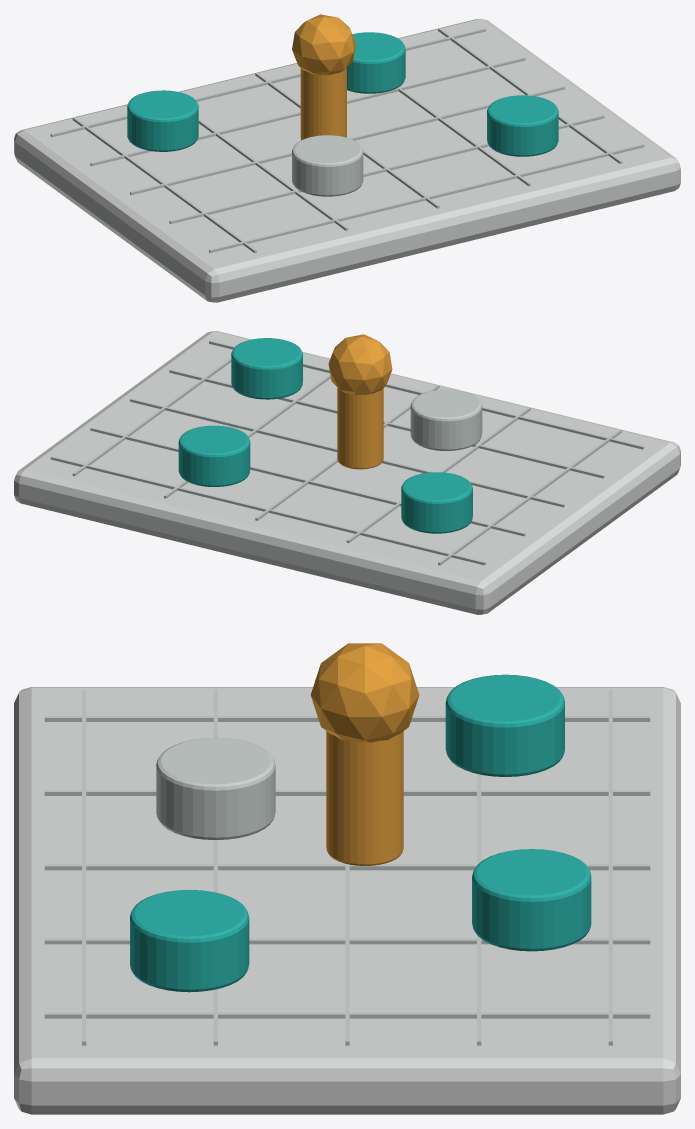
Rendered from spatial-allocation-table.glb.
3 renders of one model, top to bottom at view 1: azimuth 30°, elevation 25°; view 2: azimuth 150°, elevation 25°; view 3: azimuth 270°, elevation 25°, orthographic. The views are drawn at different scales.
Parts seen in each view (by area): view 1: Allocation table, Plot 1, Plot 2, Plot 4, Plot 3, Marker head, Allocation marker, Grid Y, Grid Y.002, Grid Y.003, Grid Y.001, Grid Y.004 (+5 smaller); view 2: Allocation table, Plot 3, Plot 4, Plot 1, Plot 2, Allocation marker, Marker head, Grid Y.004, Grid Y.002, Grid Y.003, Grid Y.001, Grid Y (+5 smaller); view 3: Allocation table, Plot 3, Plot 4, Plot 1, Plot 2, Allocation marker, Marker head, Grid X.004, Grid X.002, Grid X.003, Grid X.001, Grid X (+5 smaller).
Part boxes in pixels (left/top/right/bottom): Allocation table: left=14, top=18, right=680, bottom=302; Plot 1: left=127, top=90, right=198, bottom=151; Plot 2: left=487, top=95, right=558, bottom=156; Plot 4: left=292, top=135, right=363, bottom=196; Plot 3: left=347, top=32, right=405, bottom=93; Marker head: left=292, top=14, right=355, bottom=75; Allocation marker: left=300, top=68, right=346, bottom=140; Grid Y: left=209, top=144, right=644, bottom=252; Grid Y.002: left=130, top=86, right=564, bottom=195; Grid Y.003: left=90, top=57, right=525, bottom=166; Grid Y.001: left=169, top=115, right=604, bottom=223; Grid Y.004: left=50, top=28, right=485, bottom=137; Allocation table: left=14, top=331, right=680, bottom=614; Plot 3: left=178, top=425, right=250, bottom=486; Plot 4: left=410, top=389, right=482, bottom=450; Plot 1: left=401, top=472, right=472, bottom=533; Plot 2: left=231, top=338, right=302, bottom=399; Allocation marker: left=337, top=388, right=383, bottom=469; Marker head: left=328, top=334, right=392, bottom=395; Grid Y.004: left=50, top=456, right=485, bottom=565; Grid Y.002: left=130, top=398, right=564, bottom=507; Grid Y.003: left=90, top=427, right=525, bottom=536; Grid Y.001: left=169, top=369, right=604, bottom=478; Grid Y: left=209, top=340, right=644, bottom=449; Allocation table: left=14, top=687, right=680, bottom=1114; Plot 3: left=472, top=849, right=591, bottom=951; Plot 4: left=156, top=737, right=275, bottom=839; Plot 1: left=445, top=674, right=564, bottom=776; Plot 2: left=130, top=889, right=249, bottom=992; Allocation marker: left=326, top=731, right=403, bottom=865; Marker head: left=310, top=643, right=419, bottom=742; Grid X.004: left=44, top=1012, right=650, bottom=1018; Grid X.002: left=44, top=864, right=650, bottom=870; Grid X.003: left=44, top=938, right=650, bottom=944; Grid X.001: left=44, top=790, right=650, bottom=795; Grid X: left=44, top=716, right=650, bottom=721.
Size of the model in its own units: 5.2 by 1.68 by 3.8.
